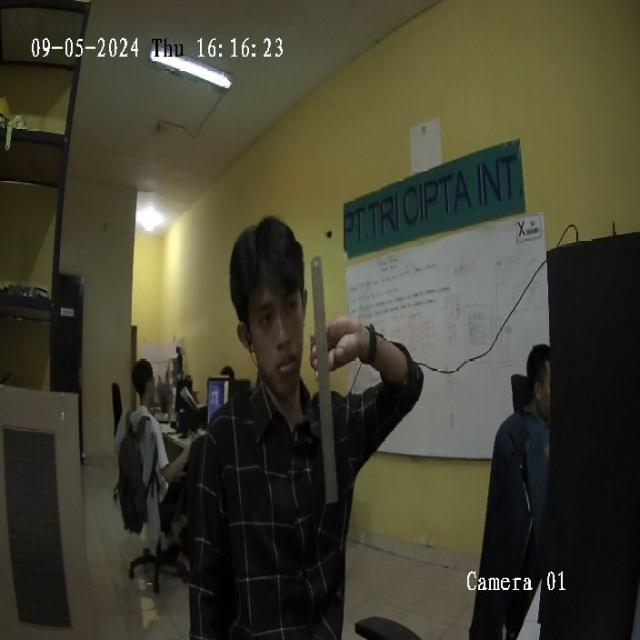Ruler: (311, 257, 337, 503)
